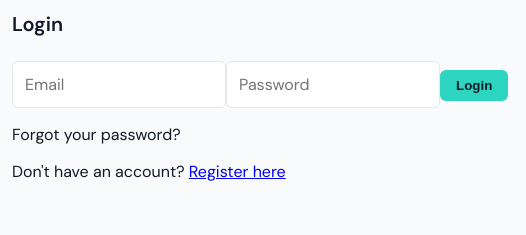
Test case: shows API error messages
Type "edja@example.com" into the field with placeholder "Email" at (119, 85), box [12, 61, 226, 108]
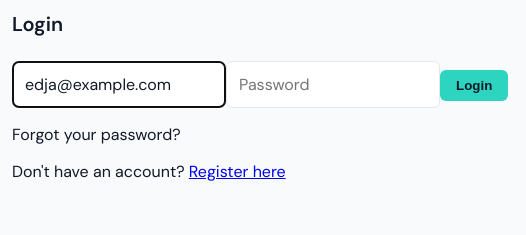
Type "wrong-password" into the password field with placeholder "Password" at (333, 85), box [226, 61, 440, 108]
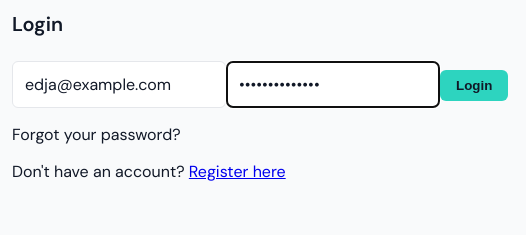
Click the button "Login" at (474, 86), box [440, 70, 508, 101]
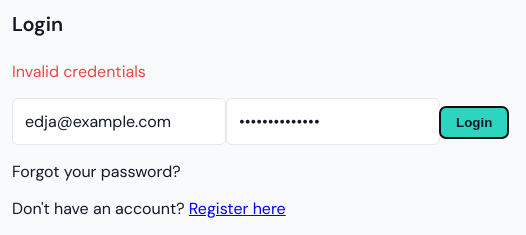
Expected: the text "Invalid credentials" is shown, [12, 61, 146, 82]
